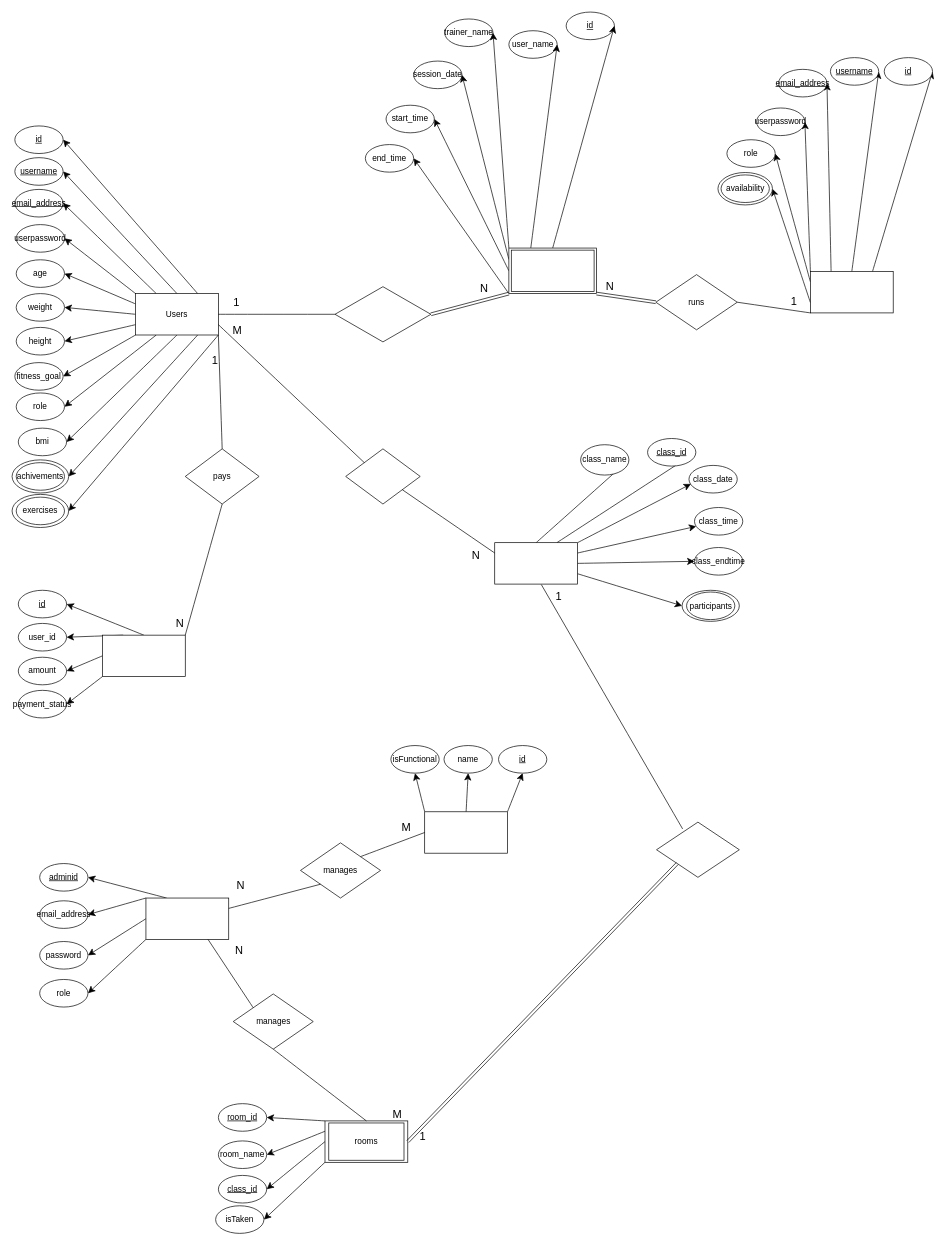
Some shapes in this 946 by 1245 pixel diagram are drawn without their labels. The centre of each missing label's shape, as x and y in pixels:
administrators: (187,918)
billings: (143,655)
books: (697,849)
classes: (536,563)
equipment_monitoring: (465,832)
have: (382,314)
joins: (382,476)
sessions: (552,270)
trainers: (851,292)
